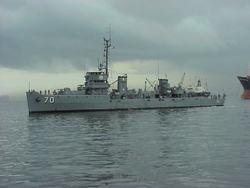warship: (22, 25, 227, 115)
